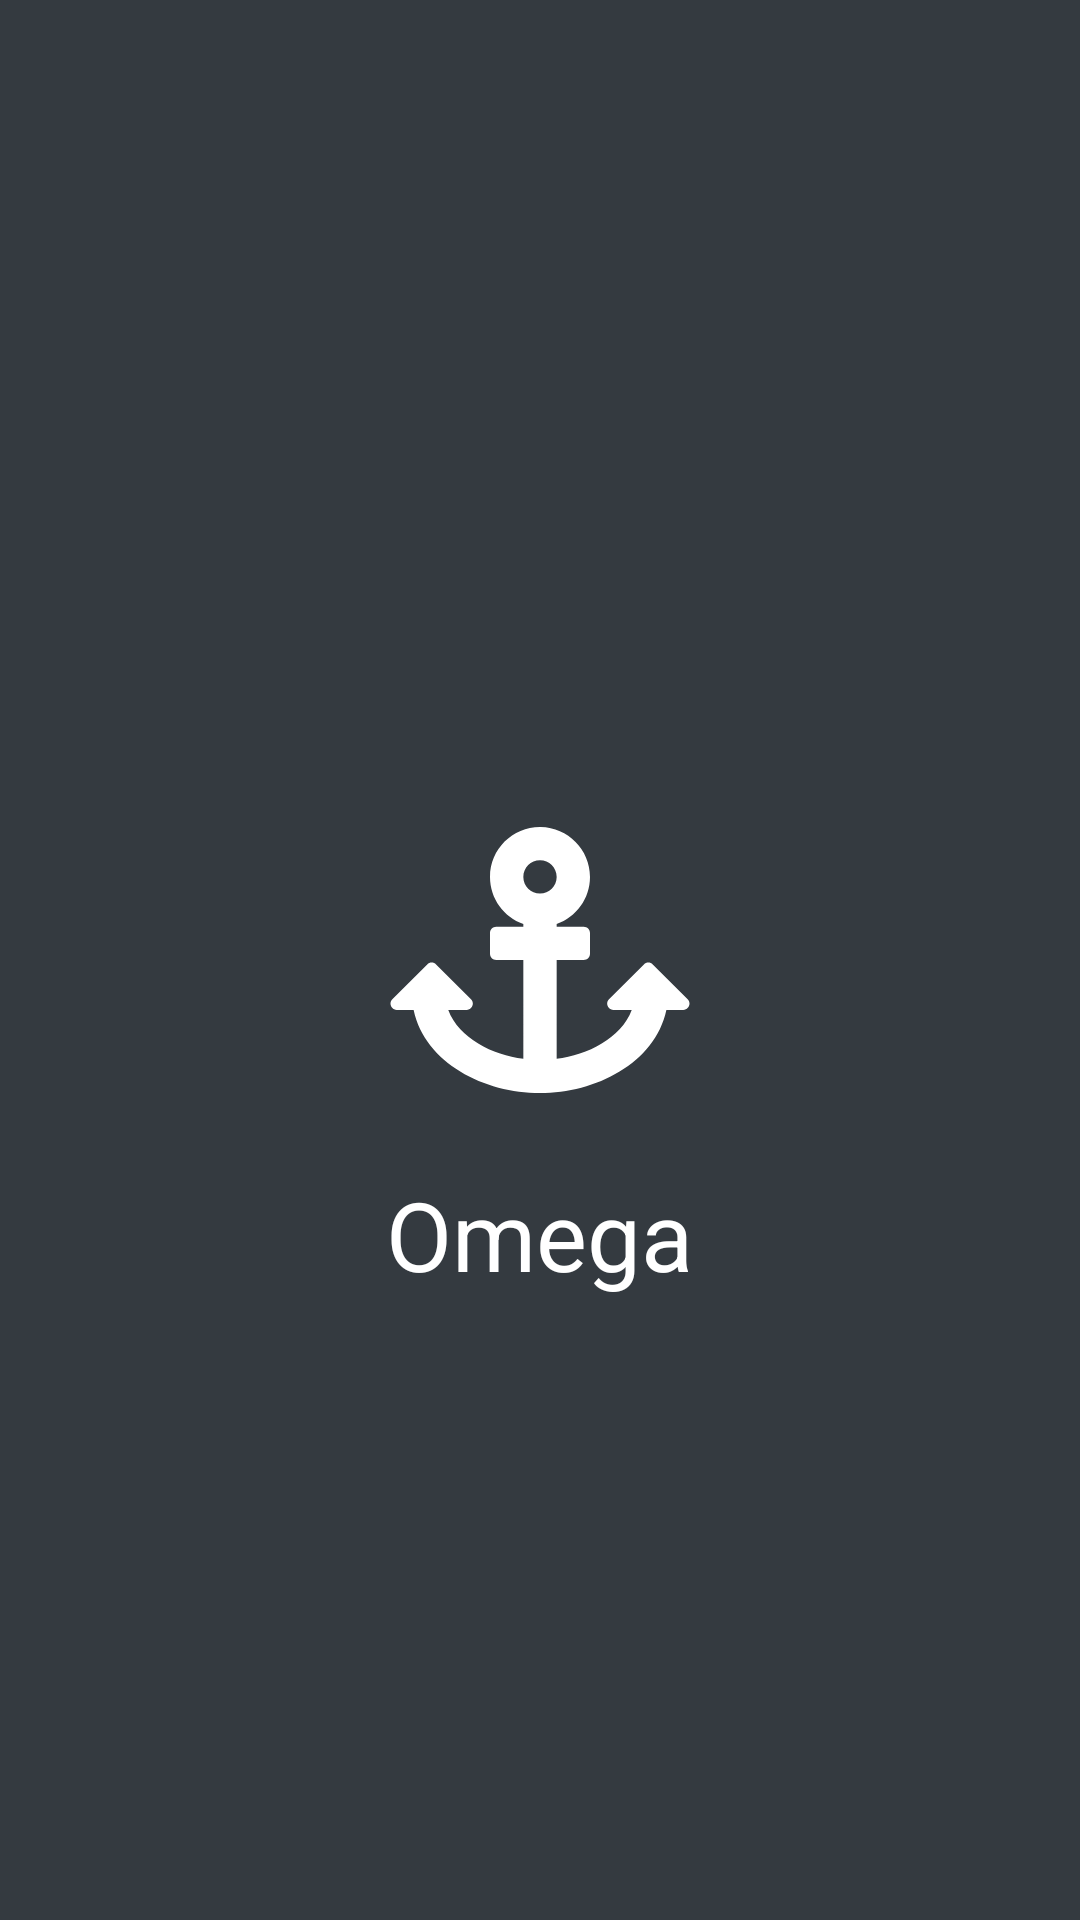

Icons on this 1080x1920 Android screen, each with its box as bbox=[x1, y1, x2, y2]:
anchor: bbox=[390, 827, 690, 1093]
